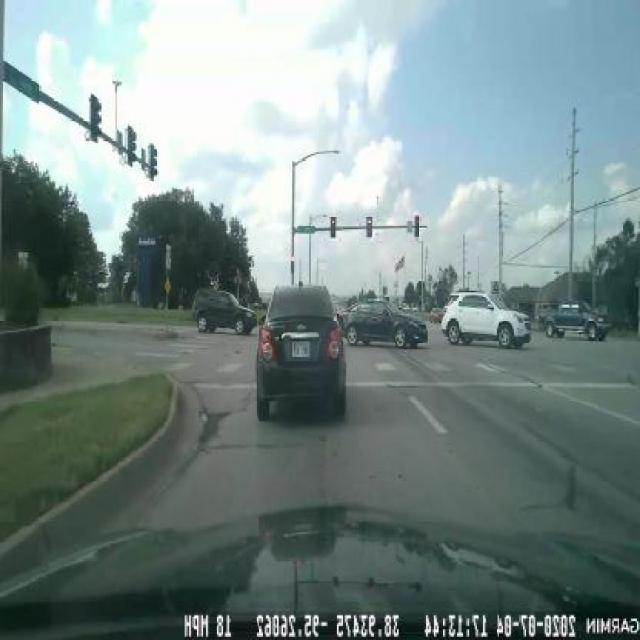pothole: (191, 402, 233, 456)
